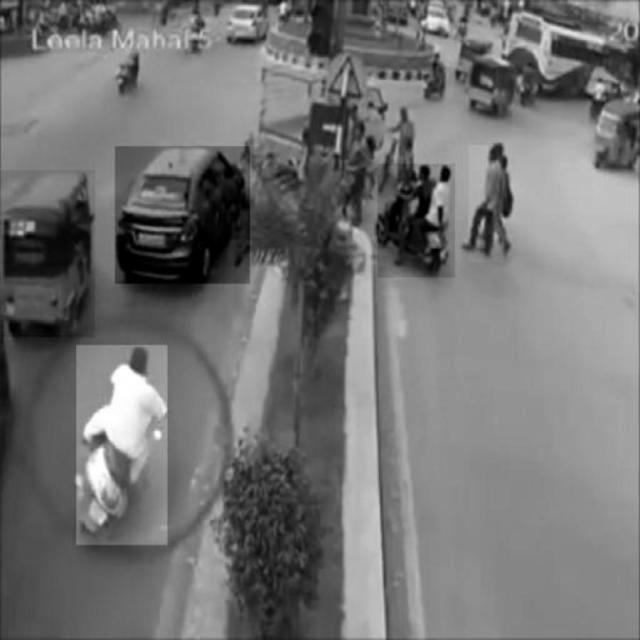person: (469, 145, 504, 263)
vehicle: (116, 147, 250, 284), (76, 345, 167, 545), (2, 171, 95, 338), (378, 164, 455, 277)
